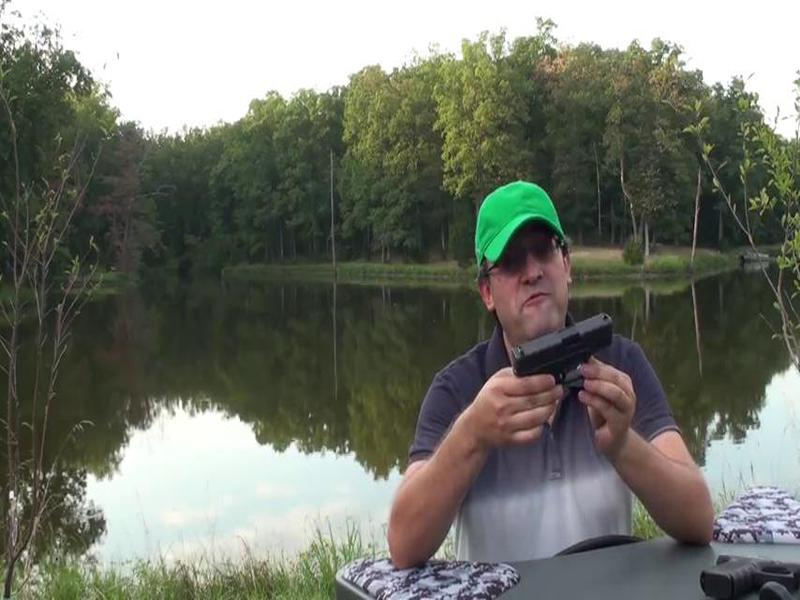Pistola: (500, 314, 615, 373)
